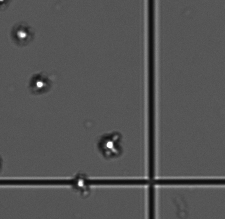Living Cell: (99, 135, 121, 156), (30, 75, 50, 92), (13, 25, 30, 44), (73, 174, 89, 191)
